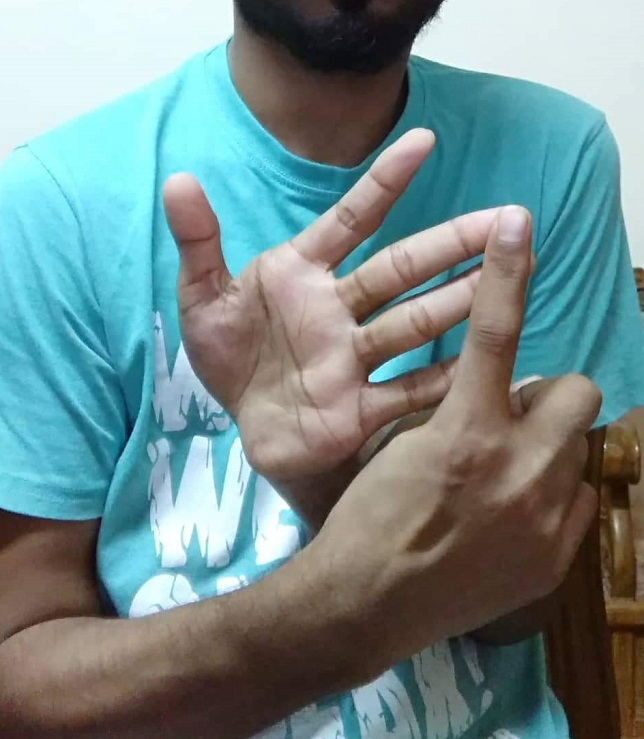u: (159, 133, 602, 509)
